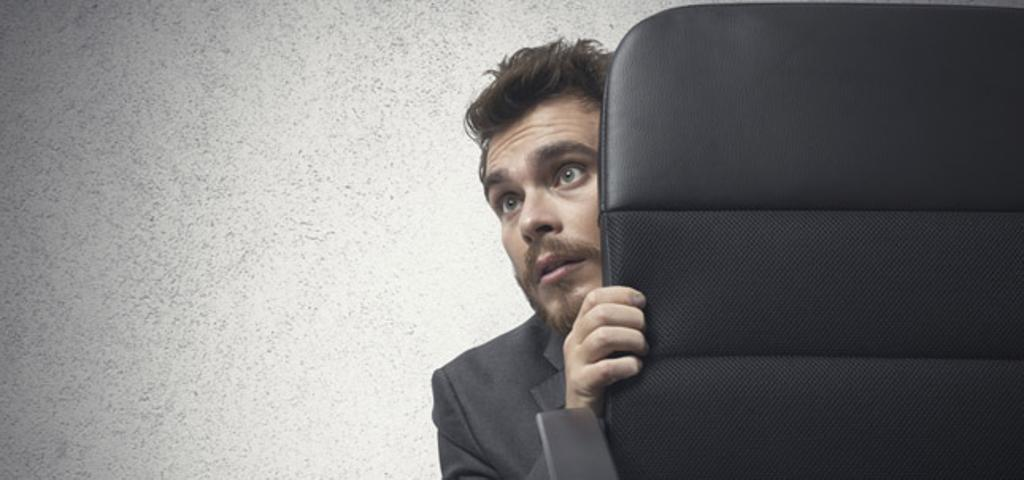face: (493, 101, 629, 317)
